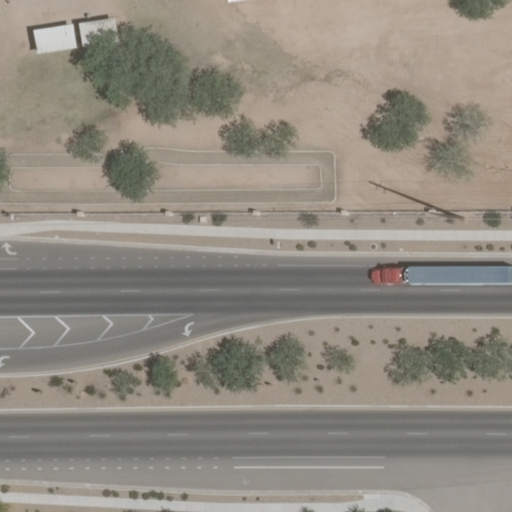DT: (424, 206, 468, 224)
